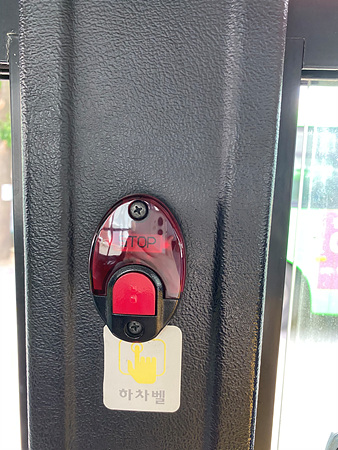bell: (88, 193, 187, 342)
